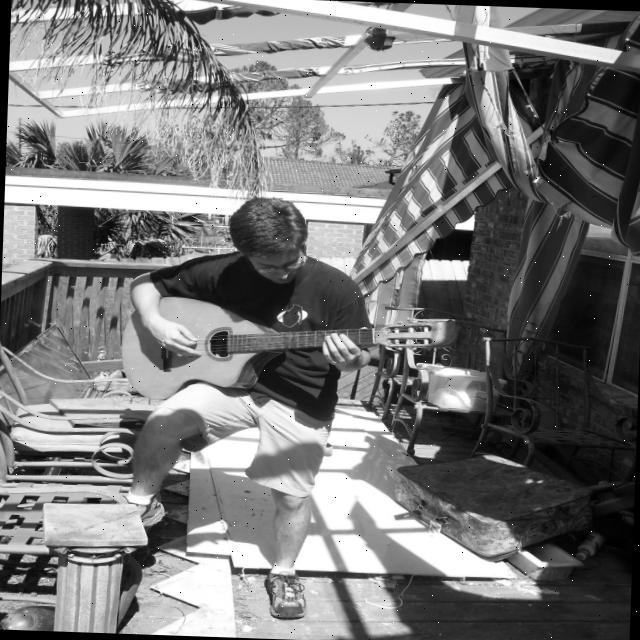guitar: (116, 290, 462, 413)
